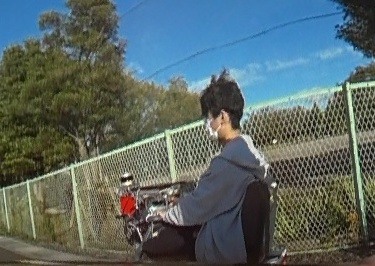person: (157, 74, 271, 266)
